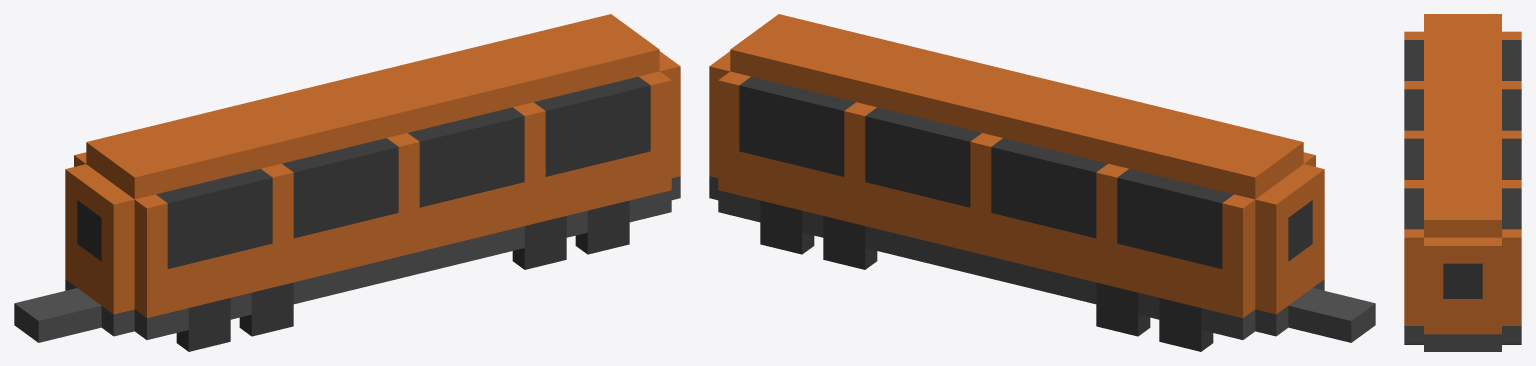
File: train-trailer-v2-orange.gltf
The picture shows the model from 3 angles, left to right: view 1: azimuth 30°, elevation 25°; view 2: azimuth 150°, elevation 25°; view 3: azimuth 270°, elevation 25°; orthographic projection. The views are drawn at different scales.
Parts seen in each view (by area): view 1: model, wheels; view 2: model, wheels; view 3: model.
Boxes of the visible parts, <box> form: model: <box>14,14,680,342</box>; wheels: <box>176,200,629,351</box>; model: <box>709,14,1375,342</box>; wheels: <box>760,200,1213,351</box>; model: <box>1404,14,1521,351</box>.
Size of the model in its own units: 3 by 0.8 by 0.6.
Materials: 2 (2 with a texture image).
